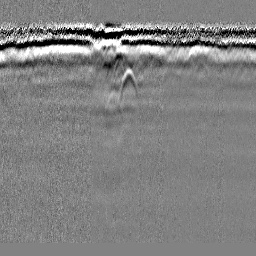cavity: (117, 66, 138, 104)
